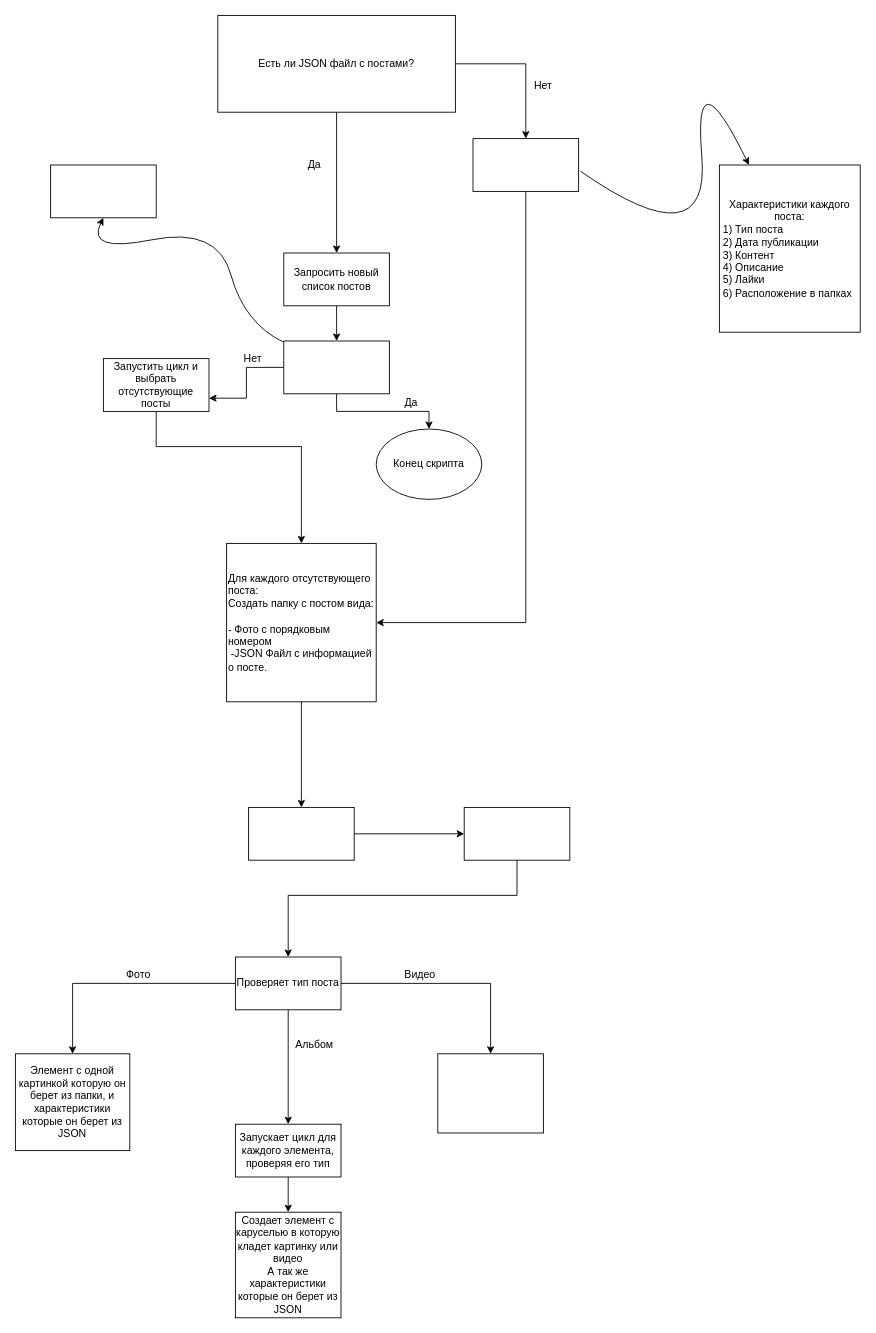
Image size: 876x1333. Some labels were removed from this diagram. Here are the shapes that lost their labels. From the top down, the box of each, then its label:
(472, 138, 579, 191): Создать файл
(283, 340, 389, 394): Посты совпадают?
(248, 807, 354, 860): Папки с постами готовы и ждут работы JS
(463, 807, 570, 860): JS Заходит в папку с постом
(437, 1053, 543, 1133): Создает элемент, который включает видео, а так же характеристики из JSON
